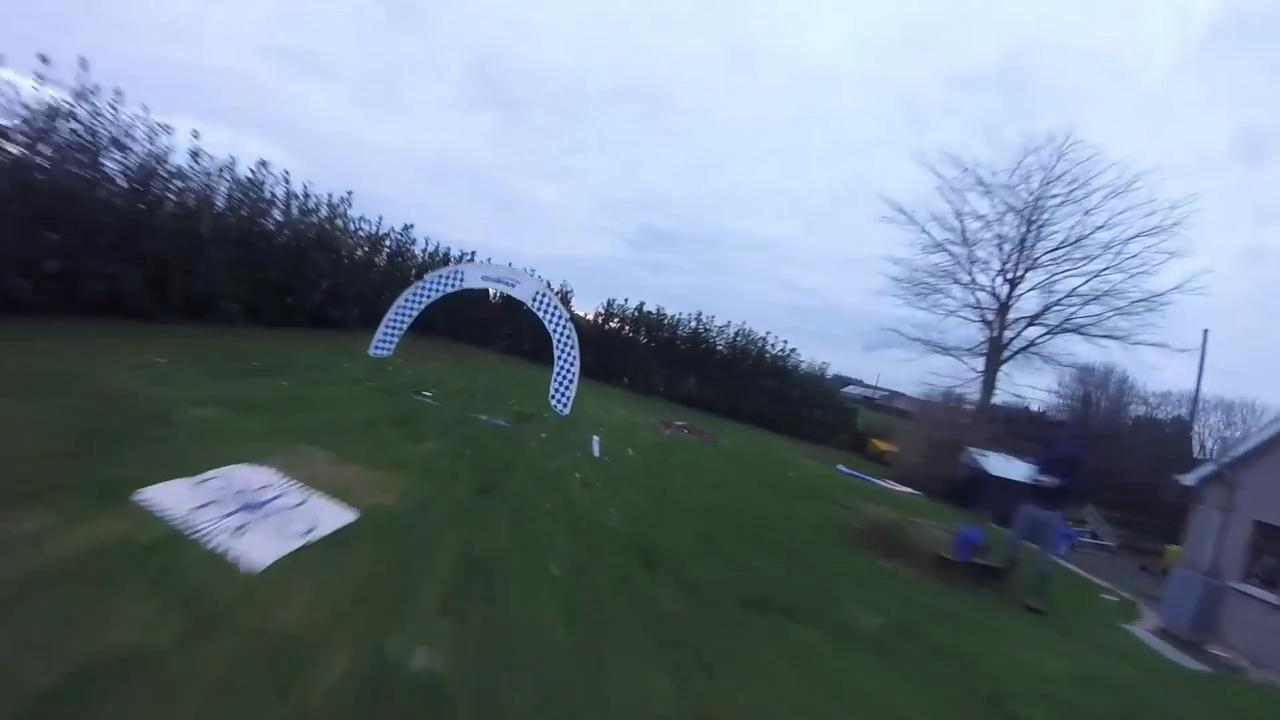gate: (363, 264, 582, 416)
